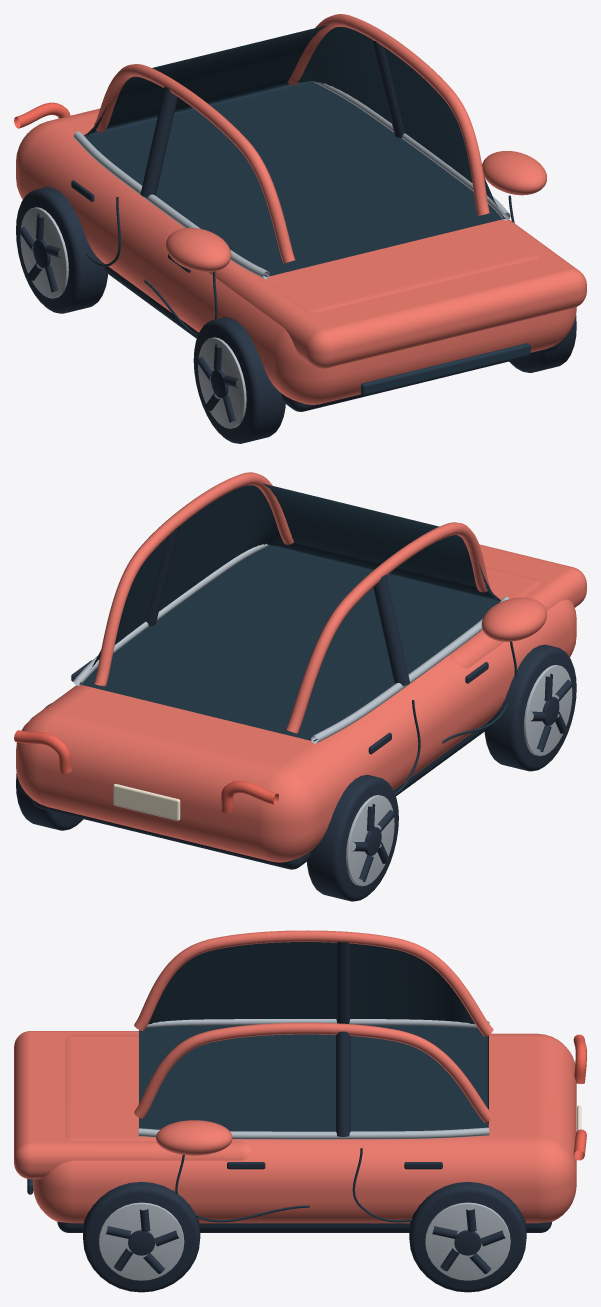
The model's file is city-car.glb.
3 renders of one model, top to bottom at view 1: azimuth 30°, elevation 25°; view 2: azimuth 150°, elevation 25°; view 3: azimuth 270°, elevation 25°, orthographic. The views are drawn at different scales.
Visible parts, largest first — view 1: Pearl paint, Midnight glass, Ink, Satin alloy, Coral; view 2: Pearl paint, Midnight glass, Ink, Satin alloy, Coral, Porcelain; view 3: Pearl paint, Midnight glass, Ink, Satin alloy, Coral.
Part boxes in pixels (bbox=[...]): Pearl paint: bbox=[16, 14, 586, 404]; Midnight glass: bbox=[84, 25, 530, 395]; Ink: bbox=[16, 38, 576, 443]; Satin alloy: bbox=[20, 81, 510, 428]; Coral: bbox=[14, 102, 70, 128]; Pearl paint: bbox=[16, 472, 586, 862]; Midnight glass: bbox=[79, 483, 517, 795]; Ink: bbox=[16, 526, 576, 901]; Satin alloy: bbox=[73, 543, 572, 886]; Coral: bbox=[14, 730, 278, 813]; Porcelain: bbox=[113, 784, 180, 820]; Pearl paint: bbox=[14, 930, 576, 1223]; Midnight glass: bbox=[27, 942, 488, 1222]; Ink: bbox=[57, 941, 551, 1292]; Satin alloy: bbox=[99, 1019, 510, 1280]; Coral: bbox=[573, 1034, 586, 1160].
Size of the model in its own units: 2.32 by 1.61 by 3.42.
